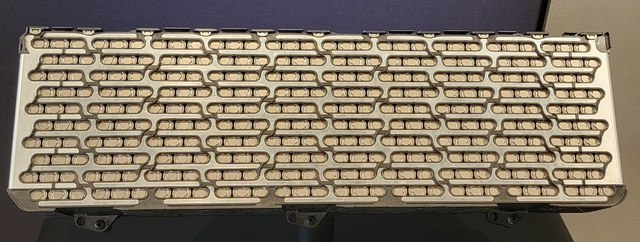Realme Buds Wireless: (32, 12, 608, 230)
